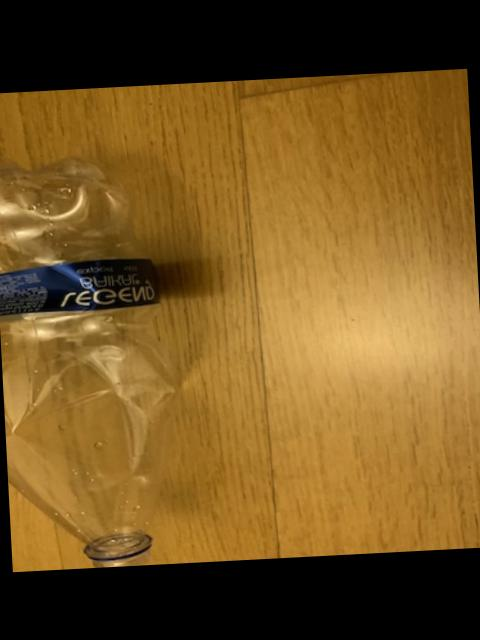plastic: (0, 157, 173, 568)
